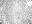person: (23, 1, 31, 9)
